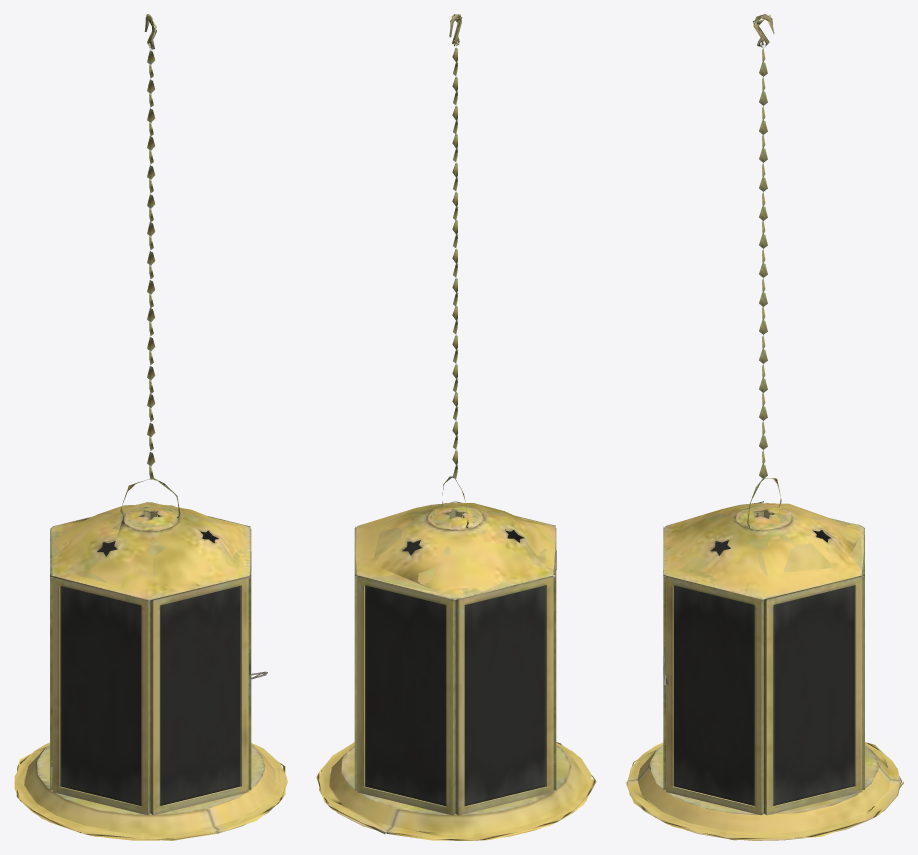
File: lantern.glb
The picture shows the model from 3 angles, left to right: view 1: azimuth 30°, elevation 25°; view 2: azimuth 150°, elevation 25°; view 3: azimuth 270°, elevation 25°; orthographic projection.
Visible parts, largest first — view 1: brass_diya_lantern_connection; view 2: brass_diya_lantern_connection; view 3: brass_diya_lantern_connection.
Part boxes in pixels (box(x1,y1,x2,y2)): brass_diya_lantern_connection: box(14, 14, 287, 840); brass_diya_lantern_connection: box(316, 14, 596, 840); brass_diya_lantern_connection: box(625, 14, 903, 840).
Size of the model in its own units: 0.123 by 0.381 by 0.1252.
4 materials, 4 textured.
